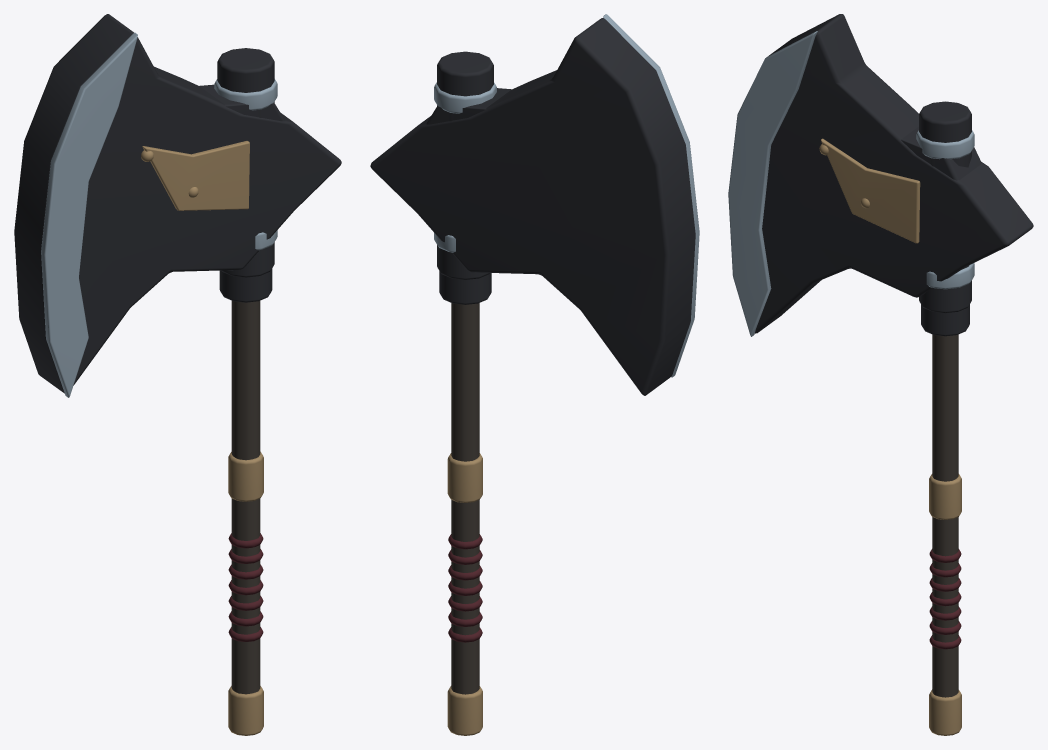
Rendered from widow-cleaver.glb.
3 views of the same model, side by side, from view 1: azimuth 30°, elevation 25°; view 2: azimuth 150°, elevation 25°; view 3: azimuth 330°, elevation 25° (orthographic). The views are drawn at different scales.
Parts seen in each view (by area): view 1: Widow crescent blade, Wide honed crescent edge, Walnut haft, Axe inset shoulder rib, Axe full length eye, Brass ferrule.001, Brass ferrule, Axe socket, Axe socket lip.001, Axe integral shoulder; view 2: Widow crescent blade, Walnut haft, Axe full length eye, Wide honed crescent edge, Brass ferrule.001, Brass ferrule, Axe socket, Axe socket lip.001, Axe integral shoulder; view 3: Widow crescent blade, Wide honed crescent edge, Walnut haft, Axe inset shoulder rib, Axe full length eye, Brass ferrule, Brass ferrule.001, Axe socket, Axe integral shoulder, Axe socket lip.001, Axe socket lip.
Boxes of the visible parts, bbox=[...] form: Widow crescent blade: bbox=[14, 14, 341, 393]; Wide honed crescent edge: bbox=[41, 32, 137, 397]; Walnut haft: bbox=[231, 301, 260, 694]; Axe inset shoulder rib: bbox=[142, 141, 249, 210]; Axe full length eye: bbox=[217, 48, 274, 277]; Brass ferrule.001: bbox=[228, 451, 263, 501]; Brass ferrule: bbox=[228, 686, 263, 735]; Axe socket: bbox=[219, 268, 272, 302]; Axe socket lip.001: bbox=[214, 79, 277, 110]; Axe integral shoulder: bbox=[199, 84, 284, 121]; Widow crescent blade: bbox=[370, 18, 695, 395]; Walnut haft: bbox=[451, 303, 479, 694]; Axe full length eye: bbox=[437, 51, 493, 279]; Wide honed crescent edge: bbox=[603, 14, 699, 377]; Brass ferrule.001: bbox=[447, 453, 482, 502]; Brass ferrule: bbox=[447, 686, 482, 735]; Axe socket: bbox=[439, 271, 491, 304]; Axe socket lip.001: bbox=[434, 82, 496, 113]; Axe integral shoulder: bbox=[426, 88, 511, 124]; Widow crescent blade: bbox=[755, 14, 1033, 333]; Wide honed crescent edge: bbox=[728, 31, 817, 336]; Walnut haft: bbox=[932, 334, 958, 697]; Axe inset shoulder rib: bbox=[821, 138, 920, 243]; Axe full length eye: bbox=[919, 101, 971, 313]; Brass ferrule: bbox=[929, 689, 961, 735]; Brass ferrule.001: bbox=[929, 474, 961, 519]; Axe socket: bbox=[921, 304, 969, 336]; Axe integral shoulder: bbox=[901, 126, 981, 180]; Axe socket lip.001: bbox=[916, 130, 974, 159]; Axe socket lip: bbox=[926, 263, 974, 289].
Size of the model in its own units: 0.6068 by 1.42 by 0.121.
